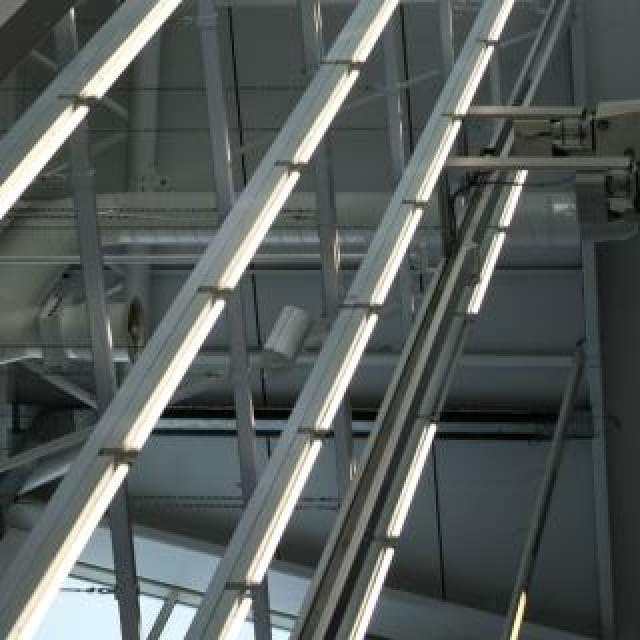fluorescent tube: (0, 446, 168, 640), (0, 86, 120, 312), (111, 274, 253, 462), (231, 414, 344, 603), (28, 0, 218, 112), (193, 151, 327, 305), (293, 287, 385, 451), (340, 193, 442, 335), (266, 55, 389, 167), (310, 0, 446, 88), (380, 406, 460, 546), (336, 524, 419, 640), (402, 105, 482, 215), (460, 207, 531, 324), (433, 38, 520, 127), (202, 569, 278, 640), (495, 155, 545, 238), (474, 0, 540, 58), (358, 0, 468, 2)
